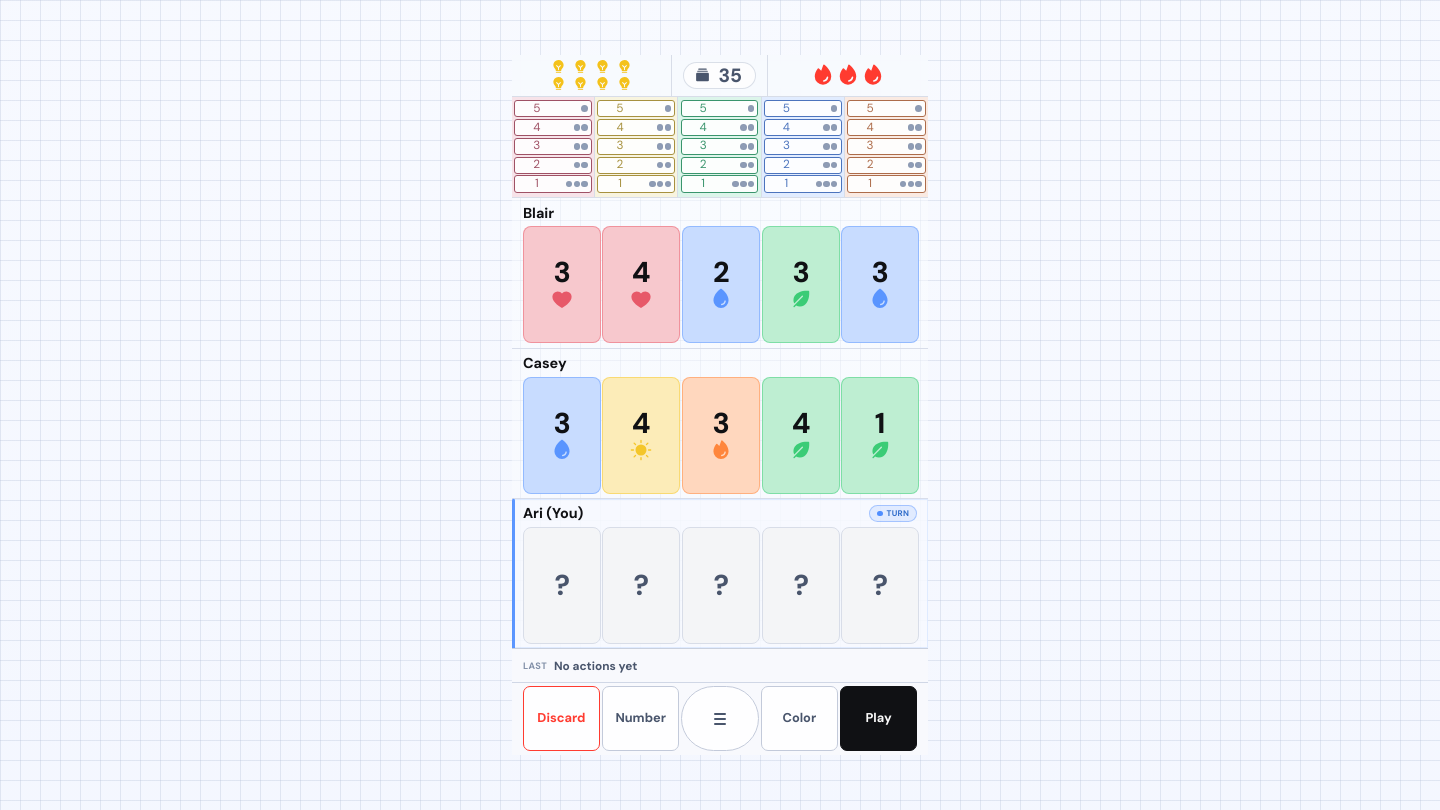
Scenario: App local debug wiring › negative hint toggles default to on and persist in local storage
Click the button with test id "actions-menu". click: (720, 719)
box: [682,686,759,751]
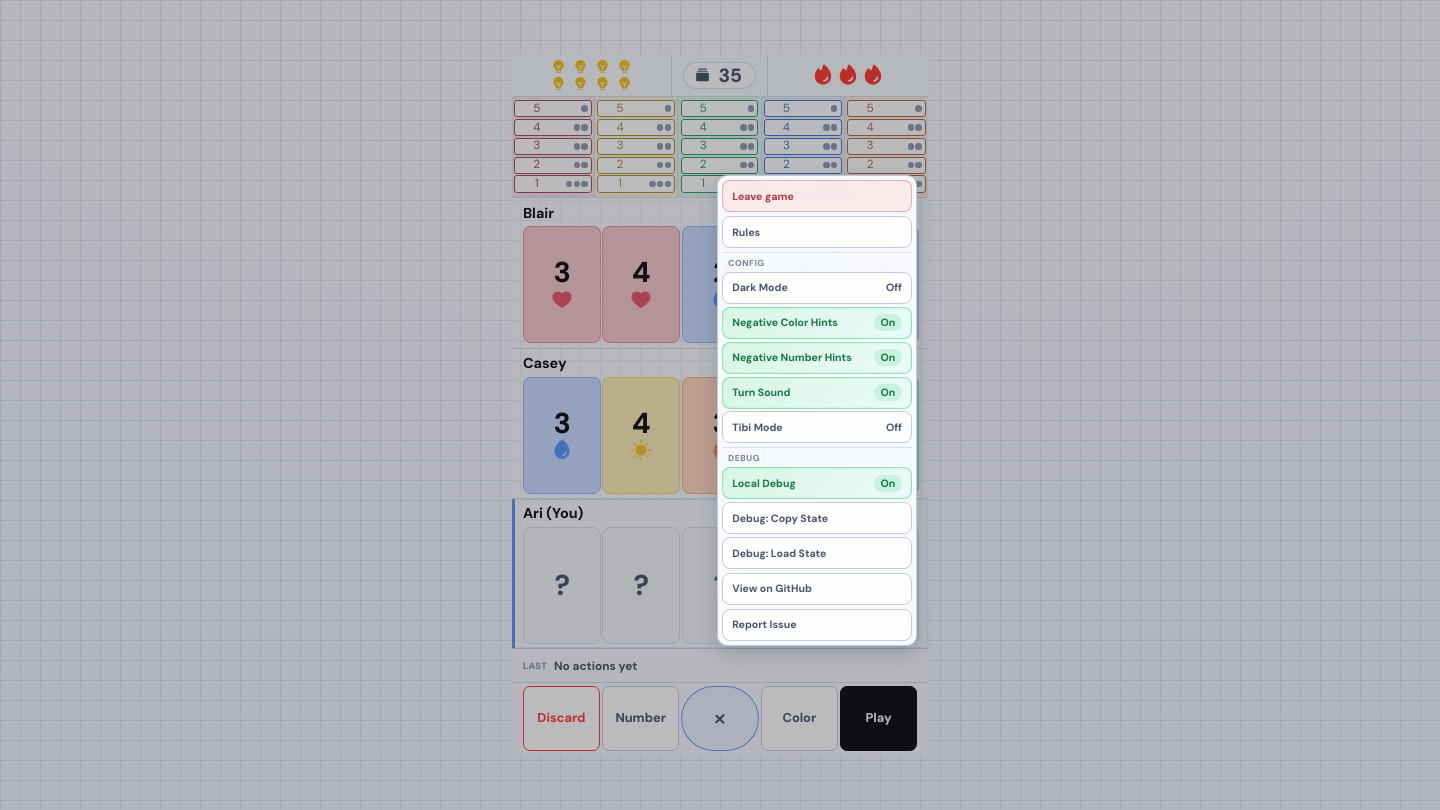
Expected: the text with test id "menu-negative-color-value" reads "On", [880,316,895,329]
Expected: the text with test id "menu-negative-number-value" reads "On", [880,351,895,364]
Click the button with test id "menu-negative-color-toggle". click: (817, 323)
box: [722,307,912,339]
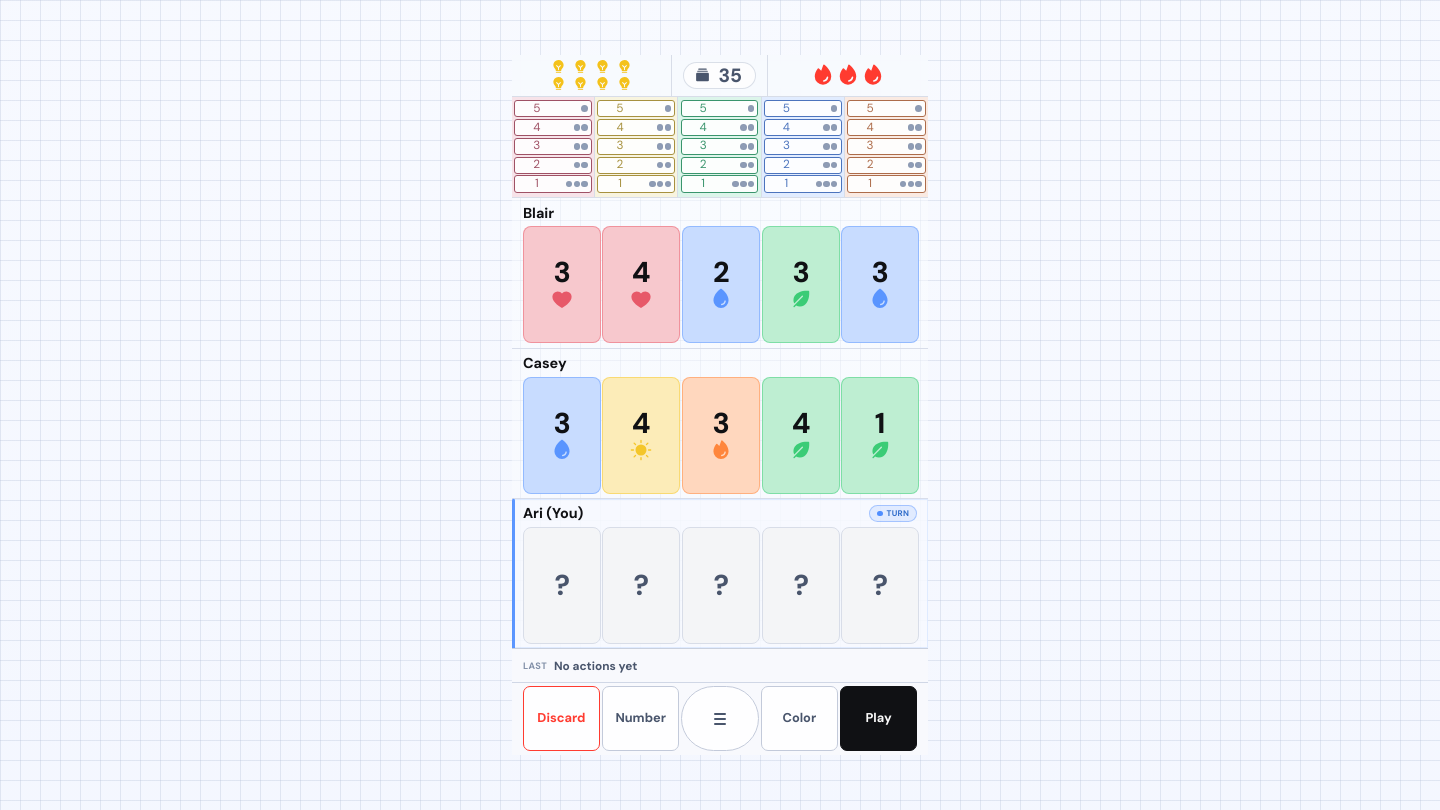
Click the button with test id "actions-menu". click: (720, 719)
box: [682,686,759,751]
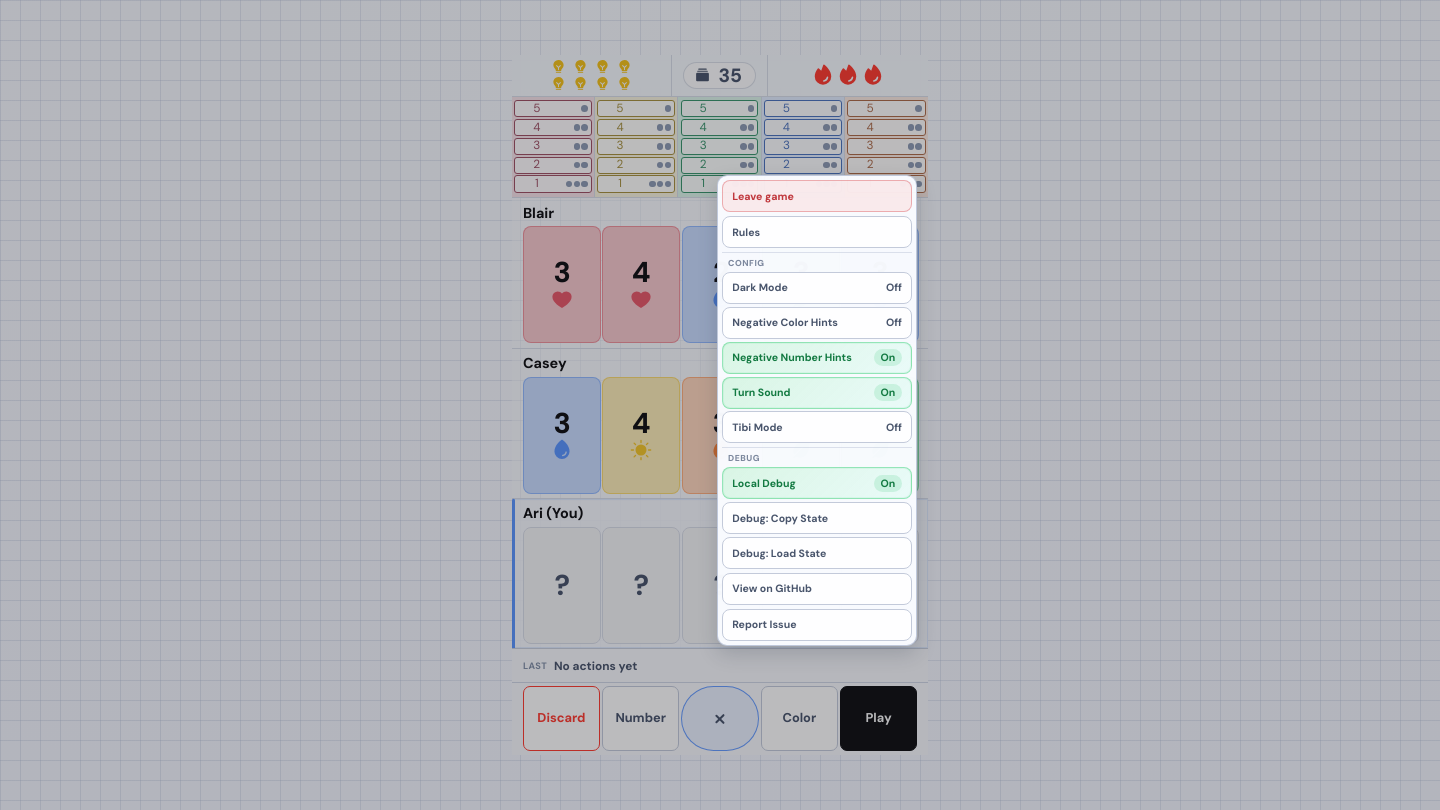
Expected: the text with test id "menu-negative-color-value" reads "Off", [886,316,902,329]
Click the button with test id "menu-negative-number-toggle". click: (817, 358)
box: [722,342,912,374]
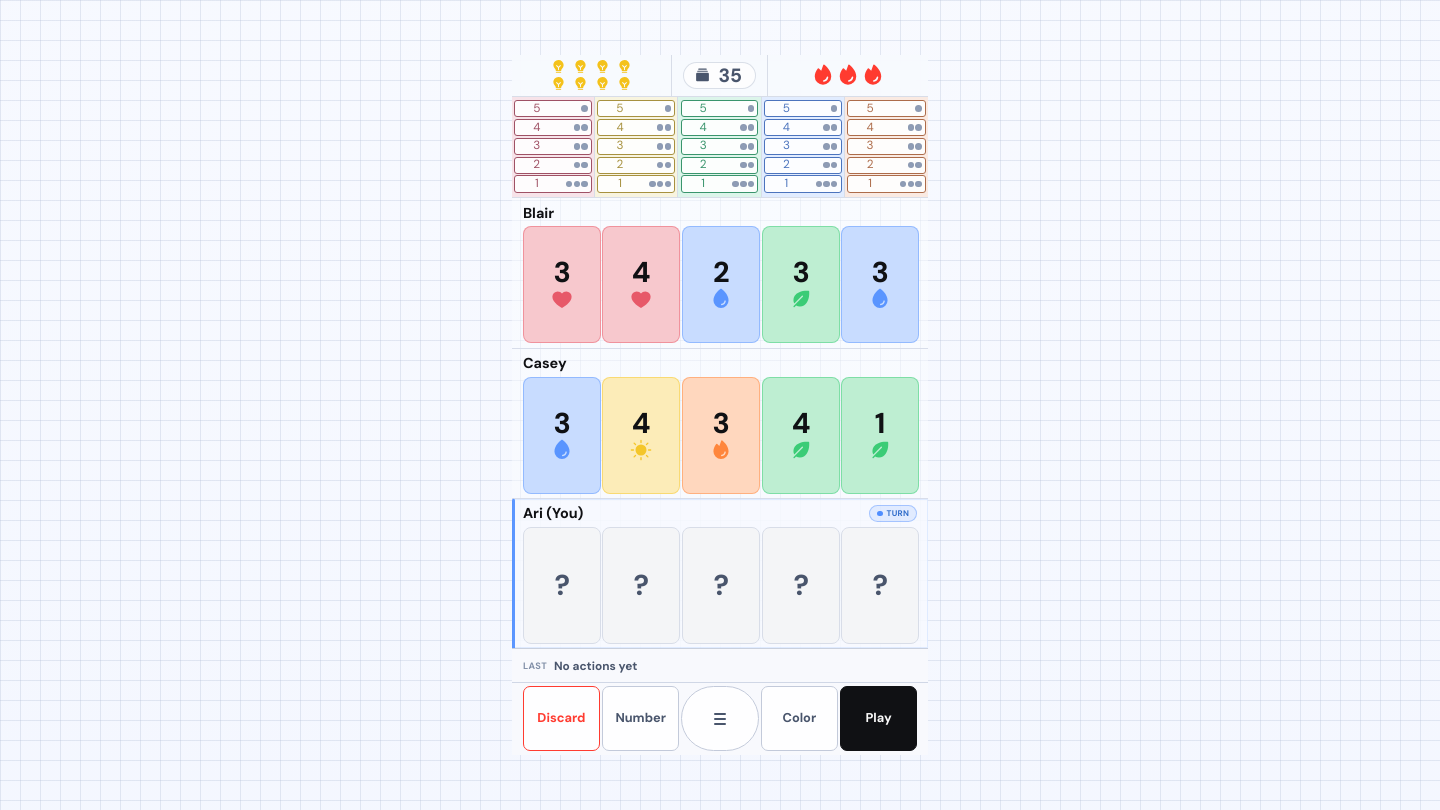
Click the button with test id "actions-menu". click: (720, 719)
box: [682,686,759,751]
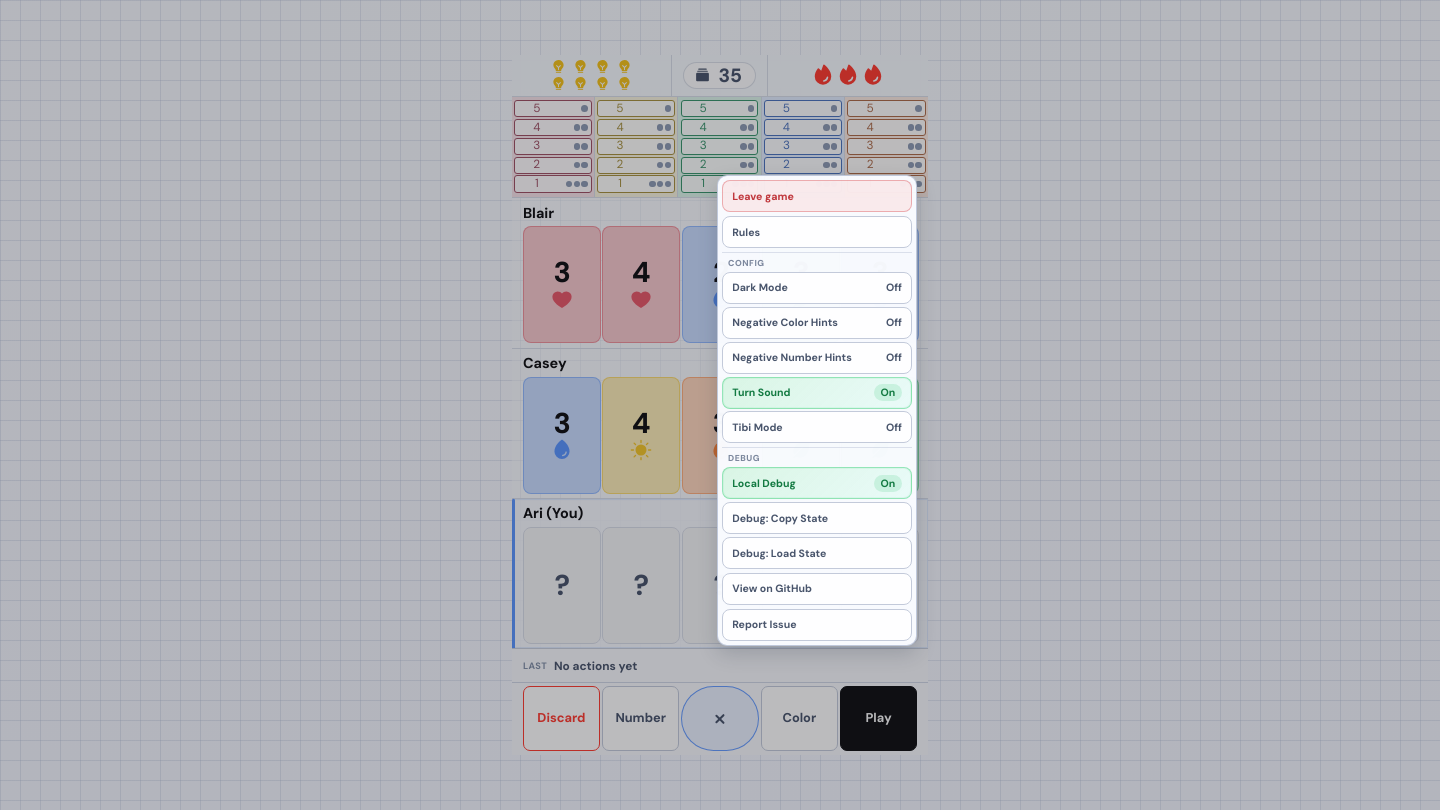
Expected: the text with test id "menu-negative-number-value" reads "Off", [886,351,902,364]
